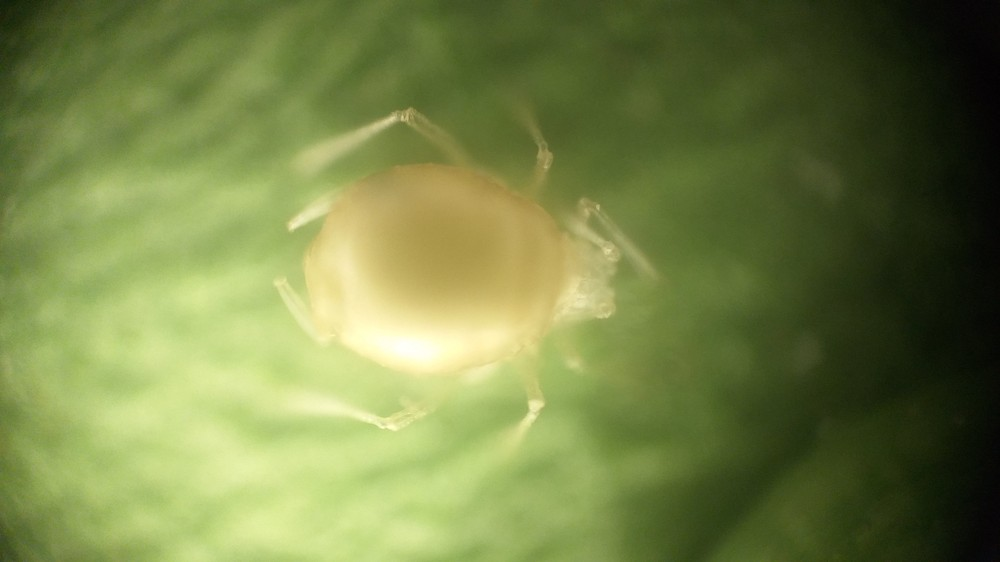Pulgon: (234, 74, 691, 486)
